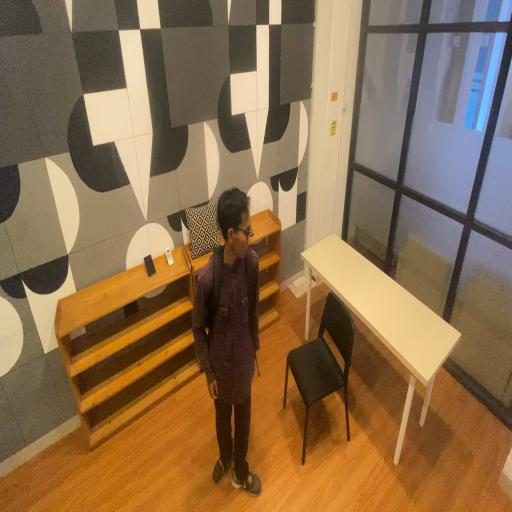bantal: (180, 204, 222, 265)
hp: (140, 250, 159, 282)
kursi: (280, 288, 357, 465)
lemari: (50, 238, 205, 453)
meja: (298, 227, 464, 481)
remote AC: (165, 244, 176, 274)
